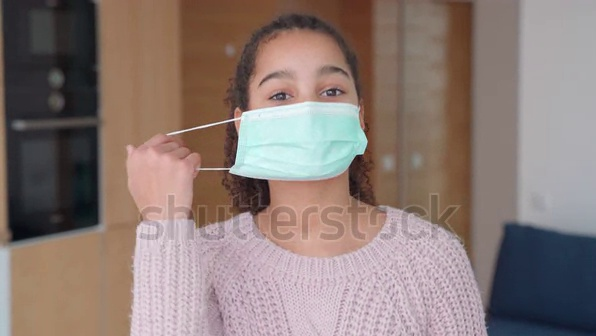Mask: (211, 103, 377, 188)
